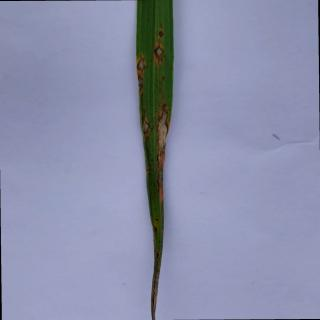Blast: (156, 103, 169, 168), (138, 108, 150, 138), (153, 42, 166, 65), (136, 56, 146, 72), (137, 74, 144, 95), (158, 168, 163, 190), (156, 29, 164, 39)
